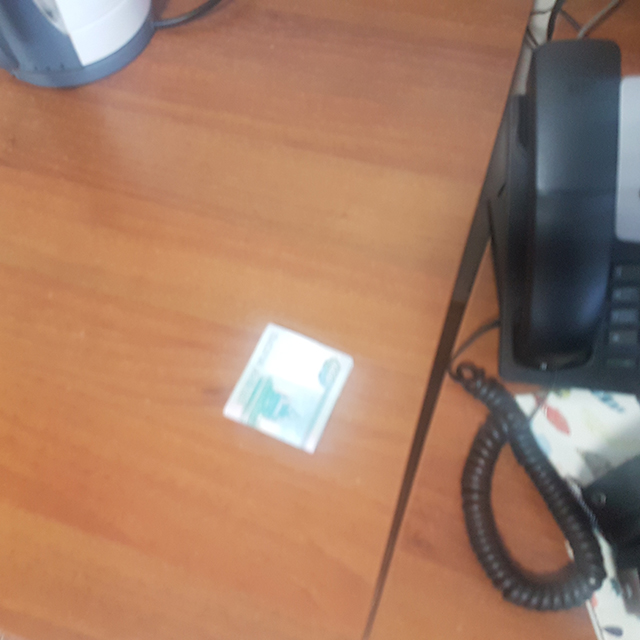banknotes: (221, 321, 354, 454)
